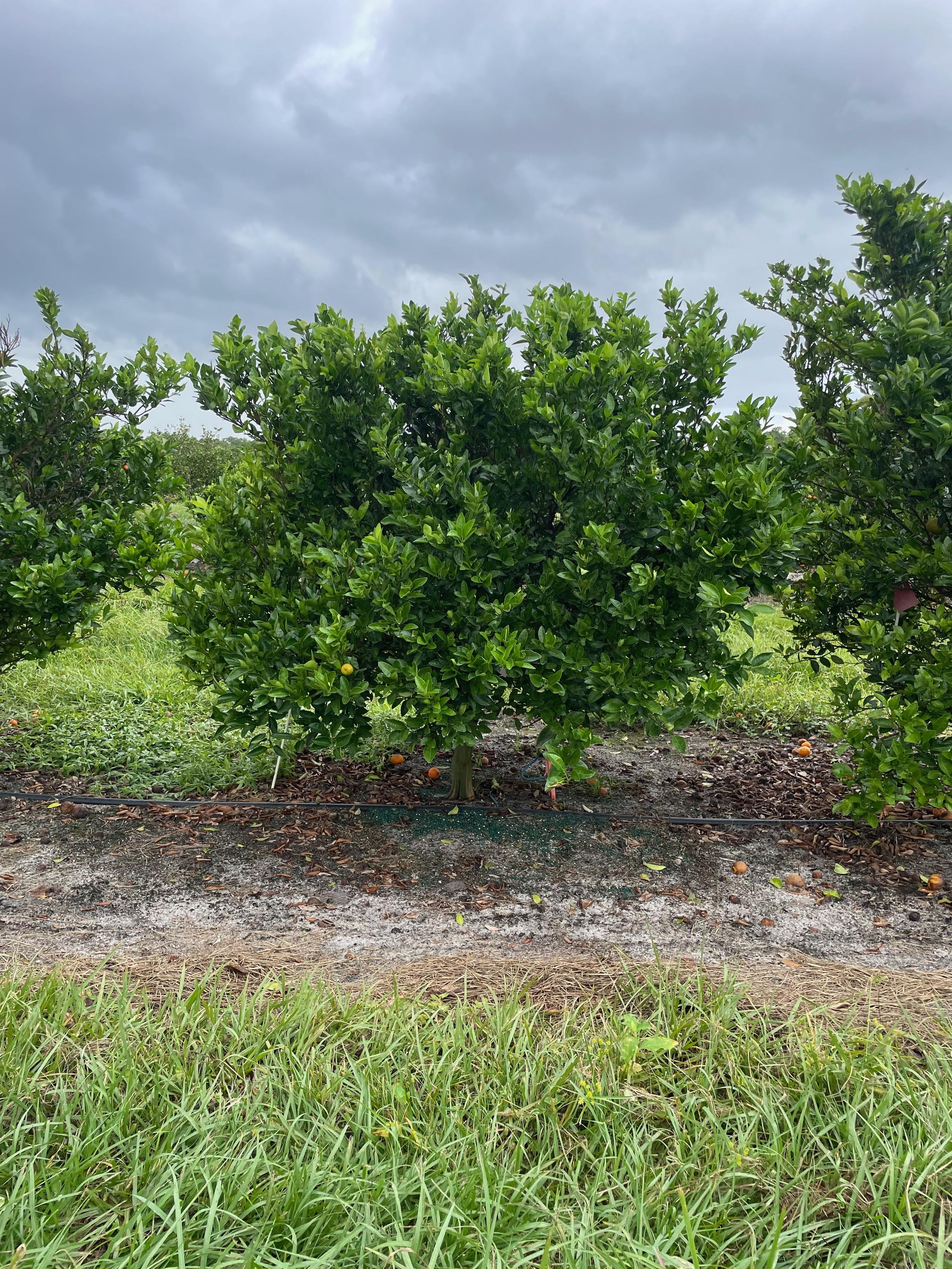fruit_on_ground: (923, 513, 948, 537), (339, 661, 356, 678)
fruit_on_tree: (783, 871, 808, 890), (926, 870, 946, 890), (731, 858, 749, 875), (425, 764, 442, 781), (58, 799, 76, 815), (72, 805, 91, 820), (388, 751, 405, 766), (595, 784, 610, 797), (760, 915, 776, 927), (796, 745, 812, 757), (584, 774, 598, 787), (811, 868, 824, 879), (479, 756, 491, 767), (800, 741, 813, 750), (797, 737, 807, 746)
